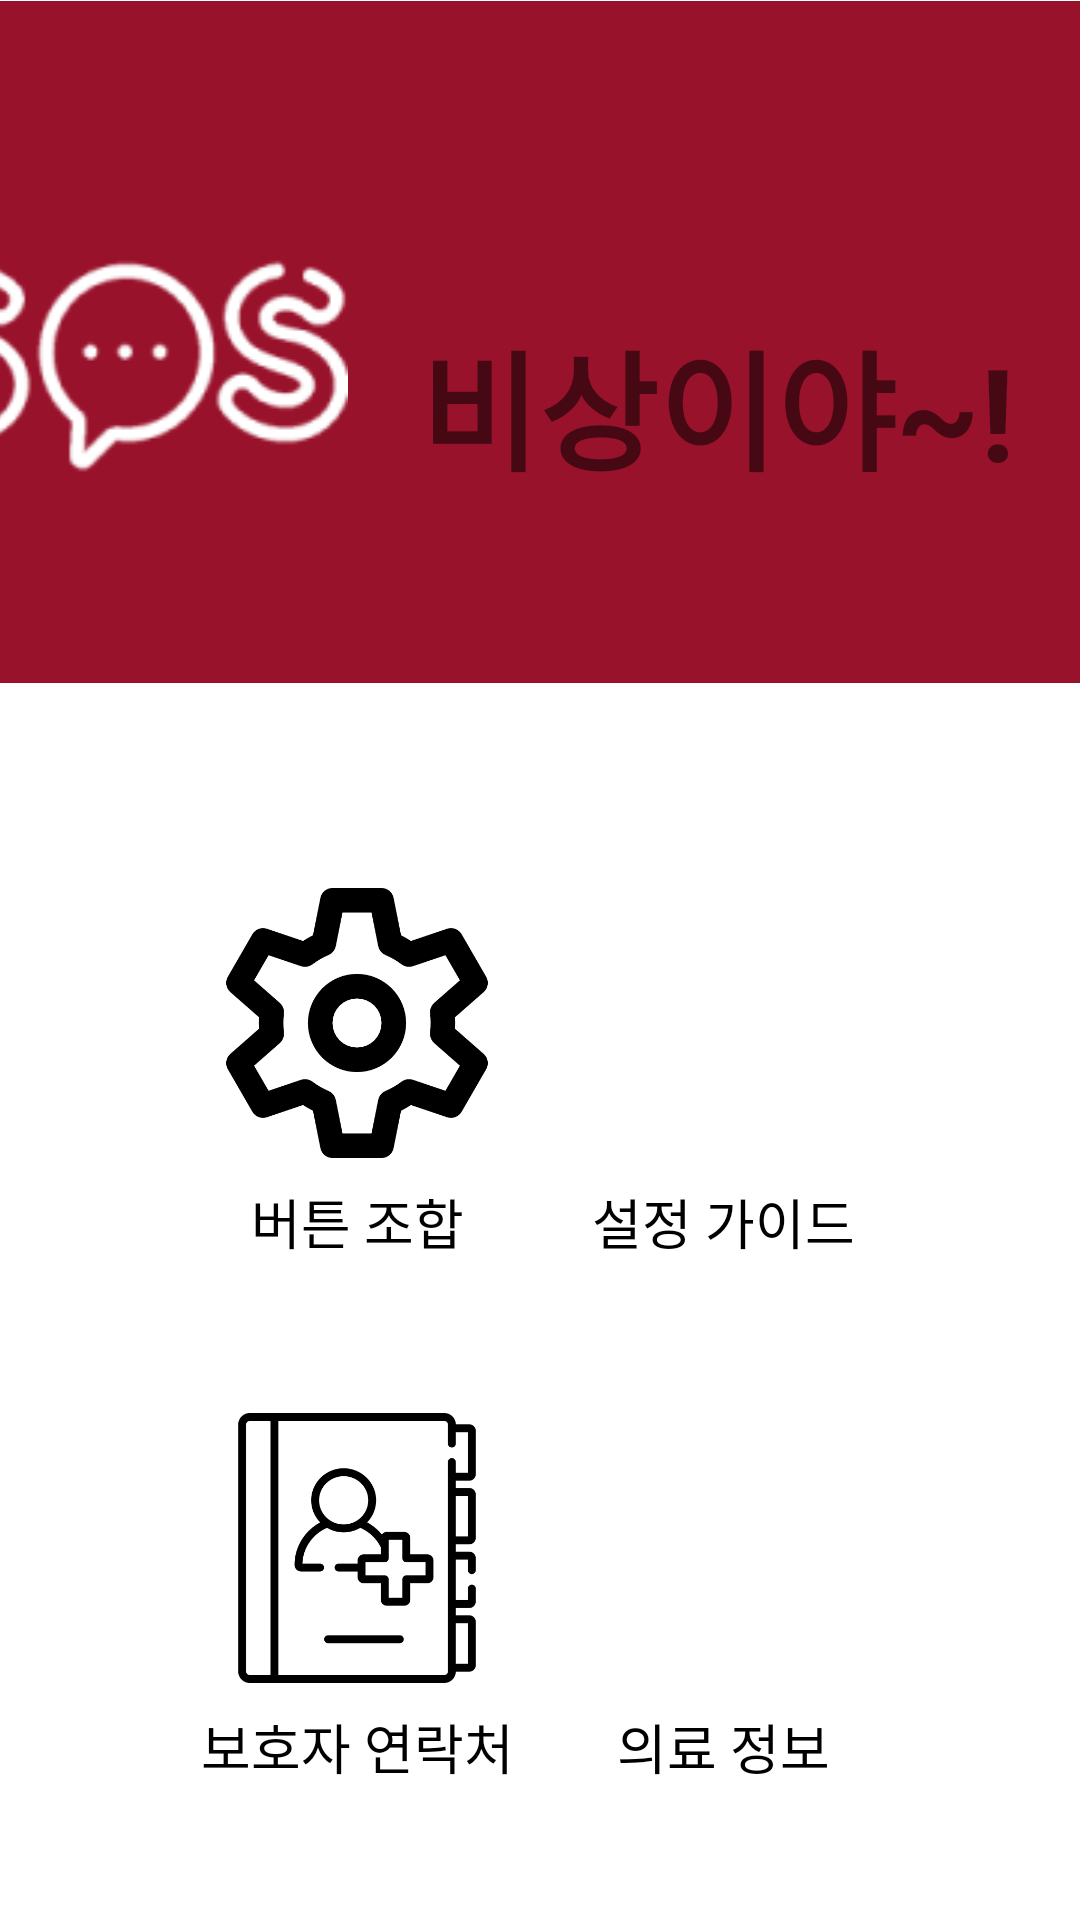

Named icons in this screenshot (1080px x 1920px) and their bounding boxes, (x1, y1, x2, y2):
setting: (226, 888, 488, 1158)
